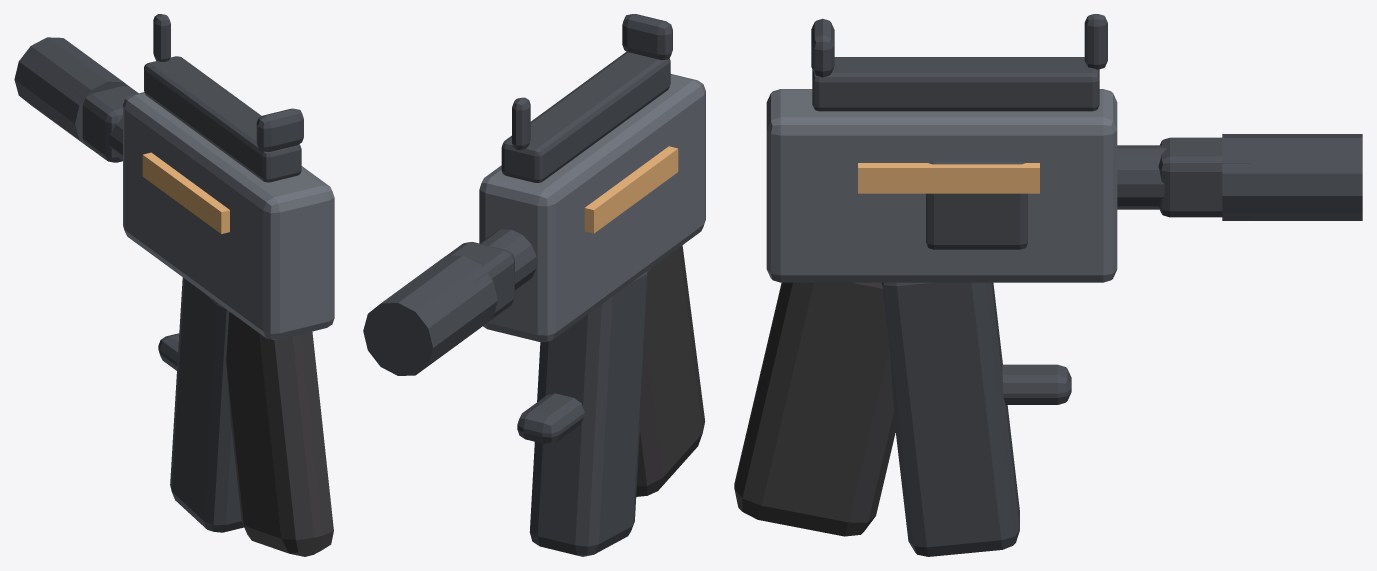
Rendered from WPN_Sidearm.fbx.
The picture shows the model from 3 angles, left to right: view 1: azimuth 30°, elevation 25°; view 2: azimuth 150°, elevation 25°; view 3: azimuth 270°, elevation 25°; orthographic projection. The views are drawn at different scales.
Parts seen in each view (by area): view 1: WPN_Sidearm; view 2: WPN_Sidearm; view 3: WPN_Sidearm.
Part boxes in pixels (x1,y1,x2,y2): WPN_Sidearm: (14, 14, 334, 556); WPN_Sidearm: (363, 14, 705, 556); WPN_Sidearm: (734, 14, 1362, 556).
Bounding box in the file's own units: 0.05 × 0.2513 × 0.2689.
